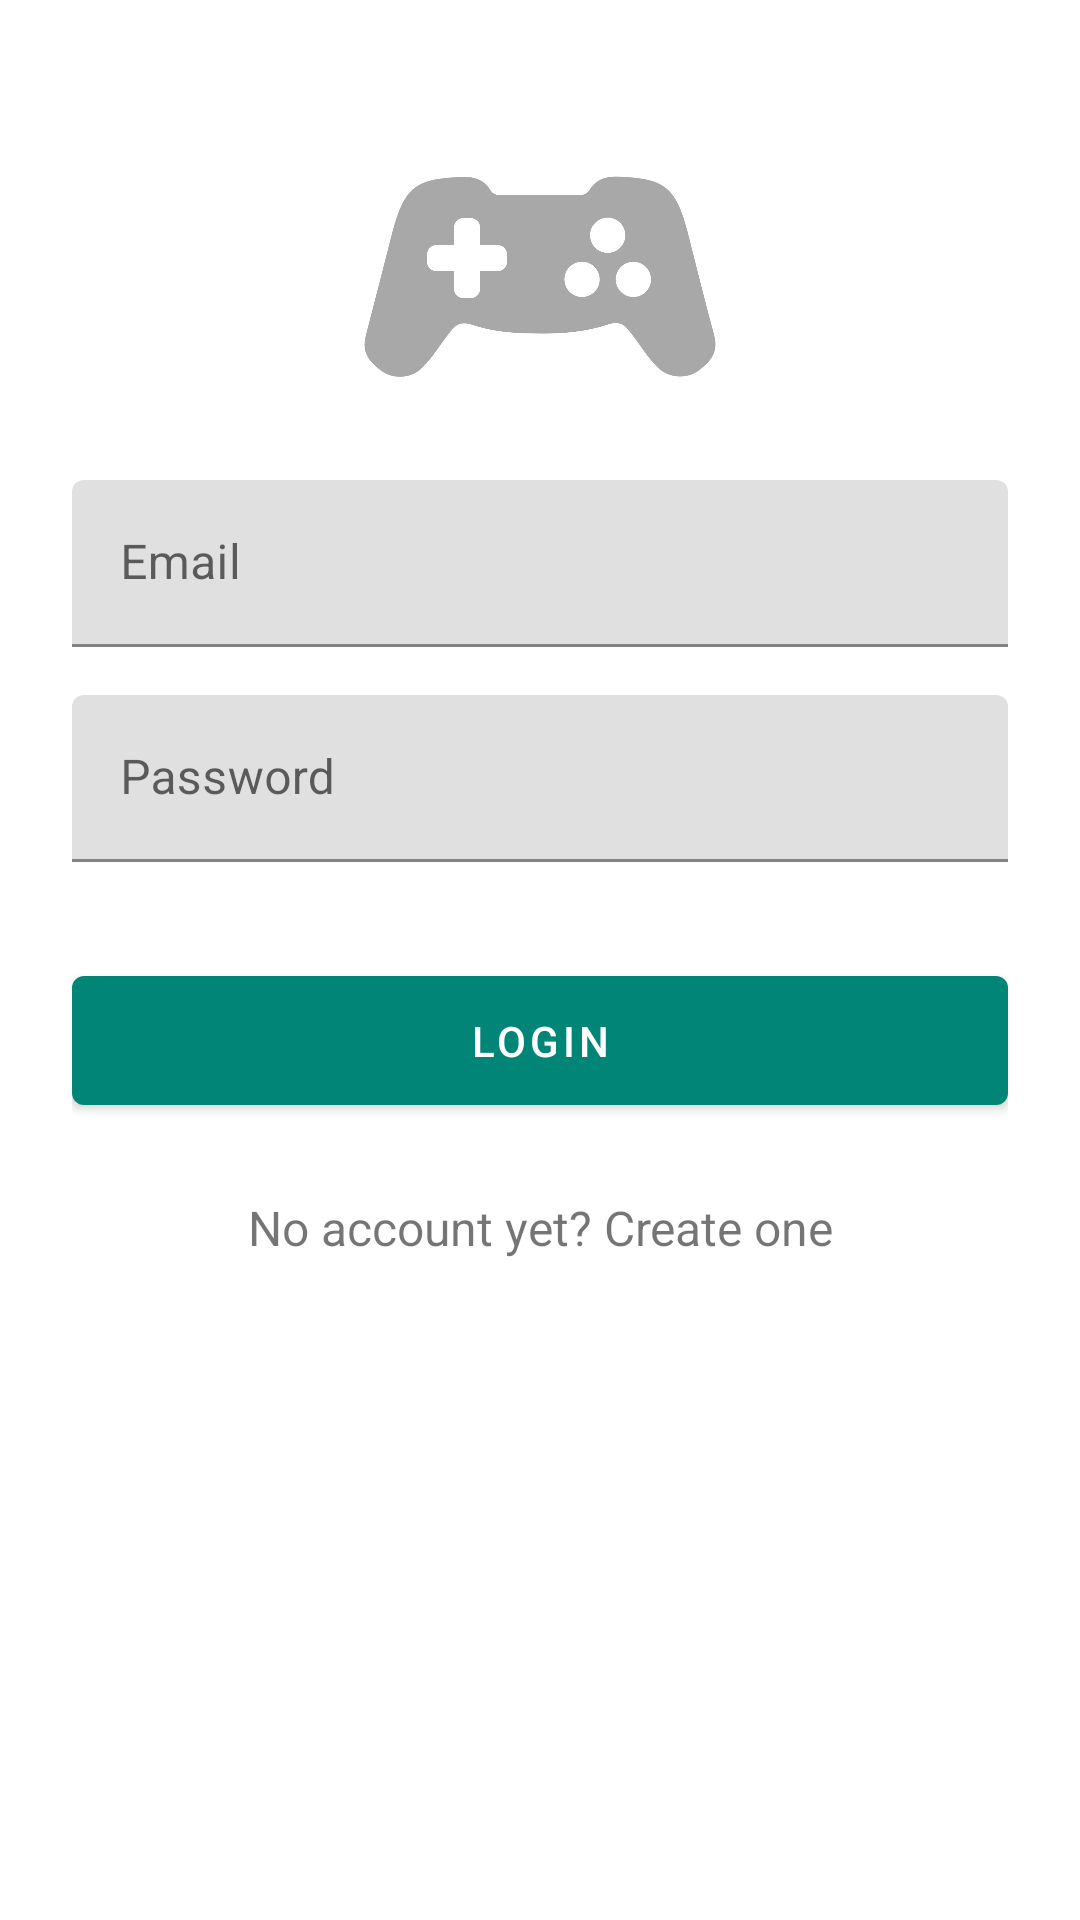

Named icons in this screenshot (1080x1920) and their centers, [x,y]:
controller: [540,276]
